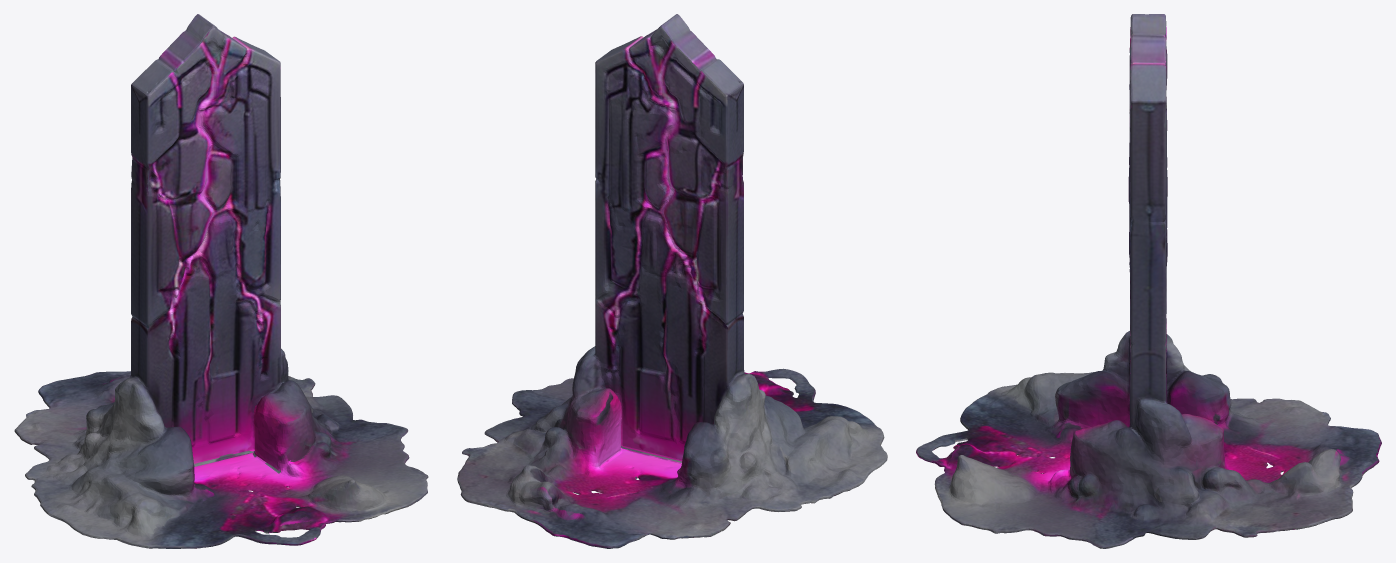
Rendered from weathered-monolith-pillar-generated-2026-05-17T19-13-21-731Z.glb.
3 views of the same model, side by side, from view 1: azimuth 30°, elevation 25°; view 2: azimuth 150°, elevation 25°; view 3: azimuth 270°, elevation 25° (orthographic). The views are drawn at different scales.
Visible parts, largest first — view 1: temp_mesh.ply; view 2: temp_mesh.ply; view 3: temp_mesh.ply.
Part boxes in pixels (x1,y1,x2,y2): temp_mesh.ply: (14, 14, 428, 548); temp_mesh.ply: (457, 14, 887, 548); temp_mesh.ply: (916, 14, 1381, 548).
Bounding box in the file's own units: 1.67 × 1.96 × 1.86.
Materials: 1 (1 with a texture image).
